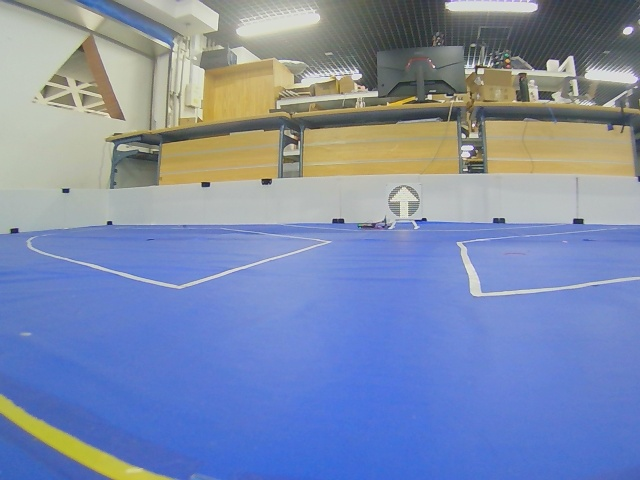straight_yellow: (388, 185, 420, 219)
